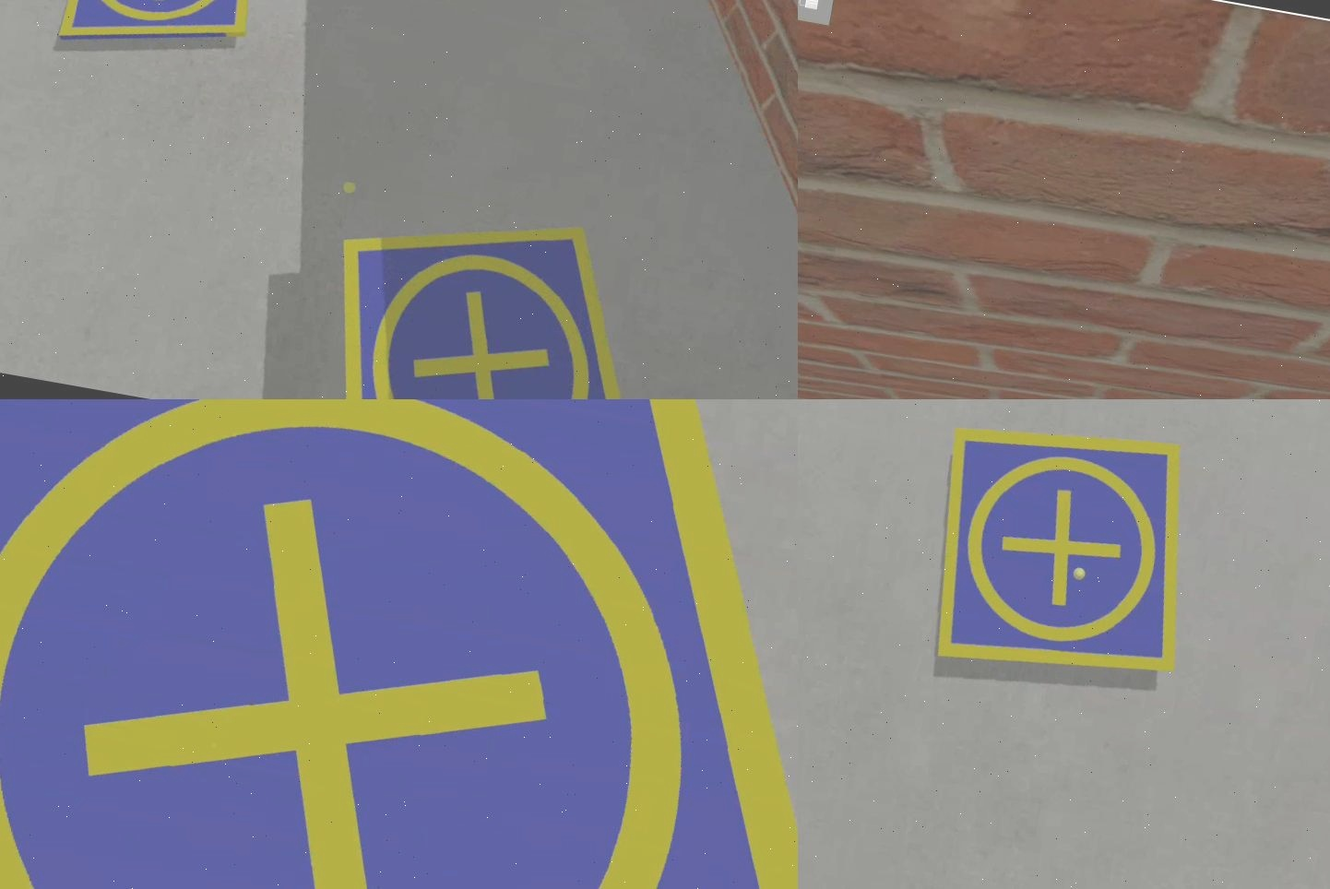small_base: (1, 400, 798, 889), (914, 406, 1219, 705), (312, 189, 689, 400), (55, 1, 271, 75)
